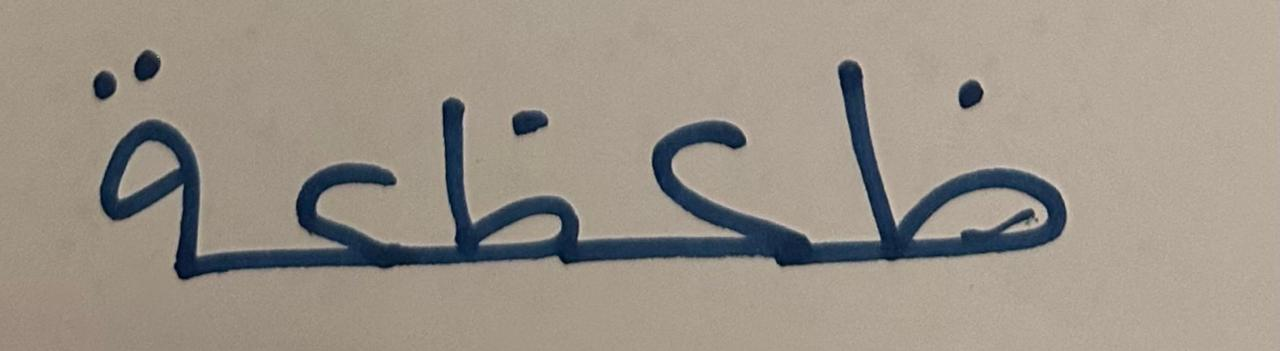ain: (601, 38, 809, 331), (224, 32, 403, 335)
thal: (51, 13, 220, 328)
zain: (812, 12, 1101, 312), (407, 48, 597, 313)
